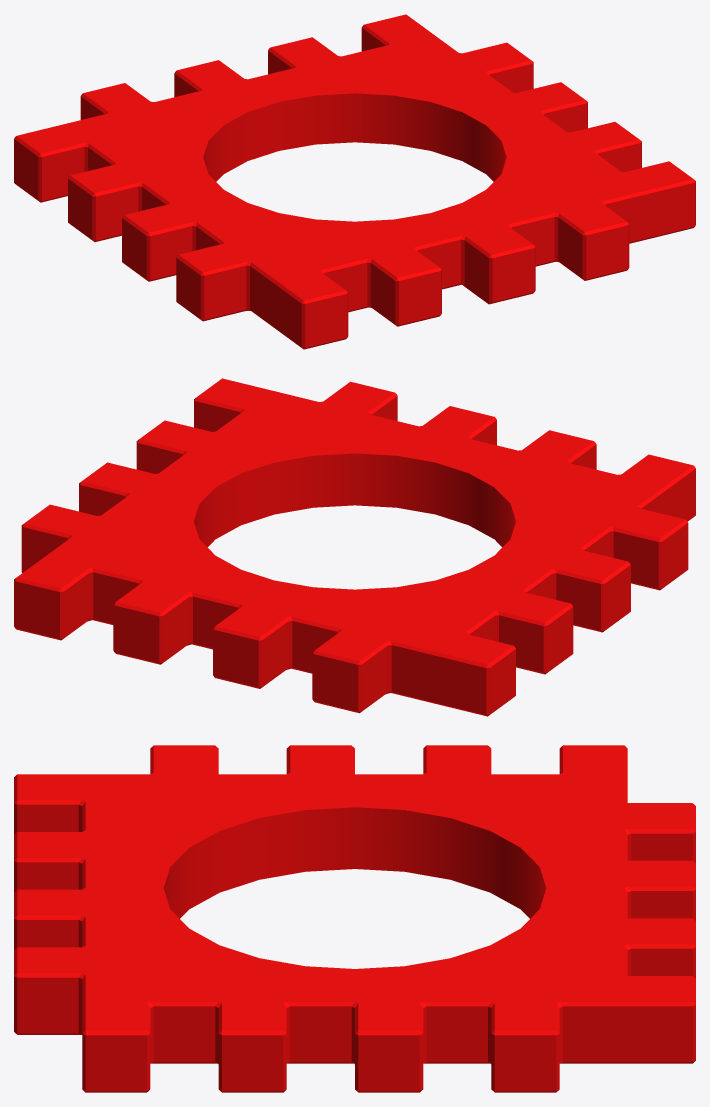
File: RedHole.fbx
The picture shows the model from 3 angles, top to bottom: view 1: azimuth 30°, elevation 25°; view 2: azimuth 150°, elevation 25°; view 3: azimuth 270°, elevation 25°; orthographic projection. The views are drawn at different scales.
Parts seen in each view (by area): view 1: BlueSquareHole; view 2: BlueSquareHole; view 3: BlueSquareHole.
Part boxes in pixels (x1,y1,x2,y2): BlueSquareHole: [14, 14, 695, 349]; BlueSquareHole: [14, 378, 695, 716]; BlueSquareHole: [14, 745, 695, 1092].
Size of the model in its own units: 5 by 0.4999 by 5.
